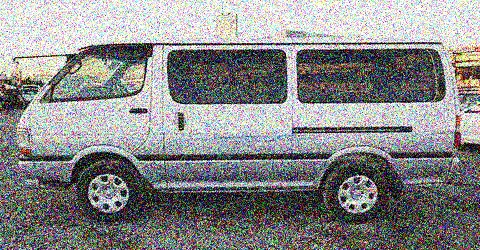van: (18, 37, 462, 217)
